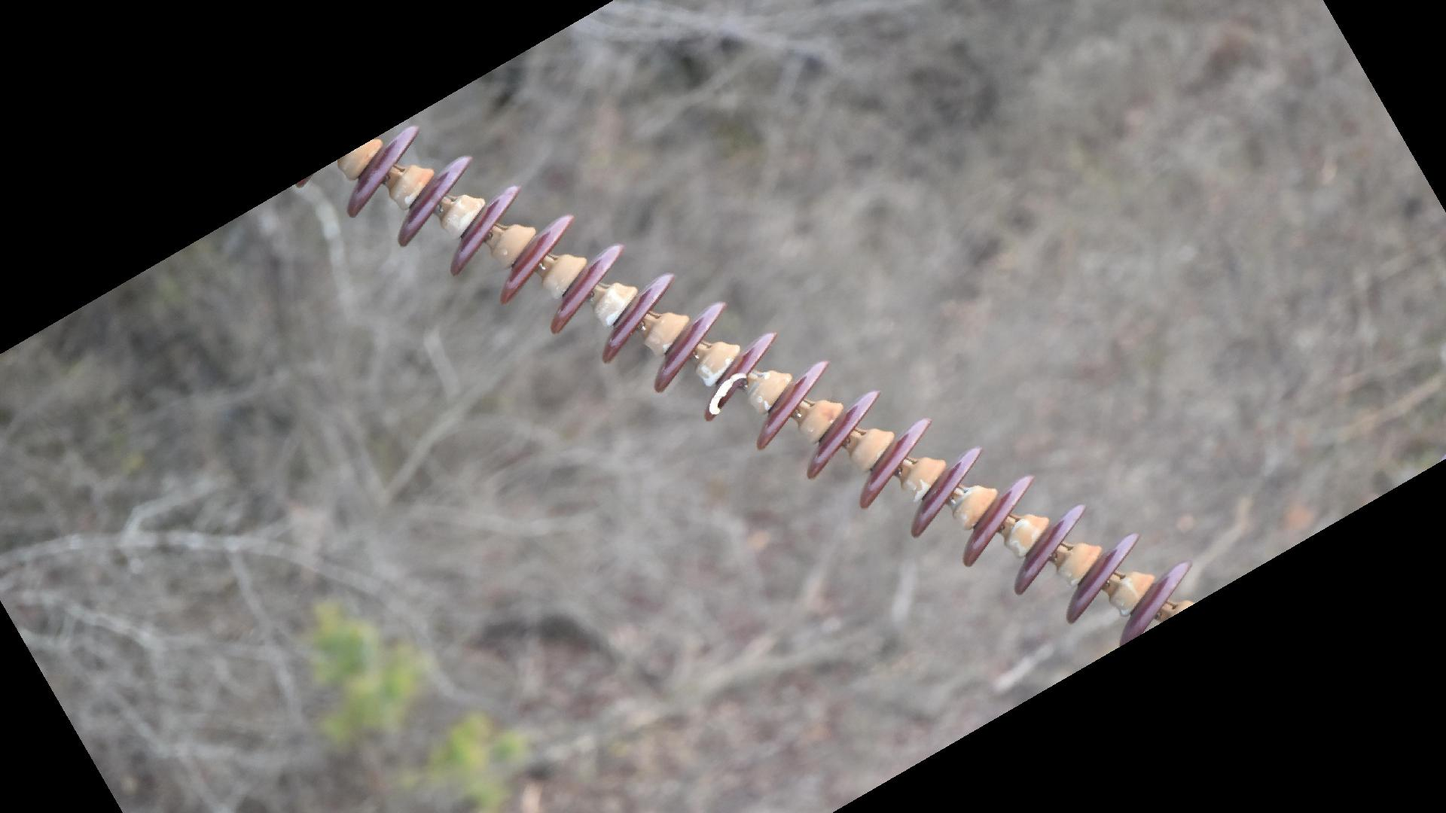insulator: (339, 120, 1200, 654)
insulator_breakage: (704, 369, 753, 420)
